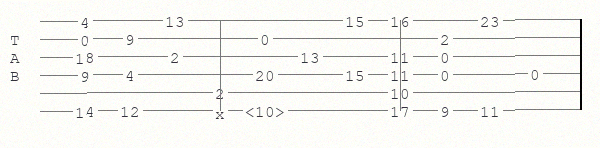0: (80, 31, 94, 45), (260, 31, 274, 45), (440, 67, 454, 81), (440, 49, 454, 63), (530, 67, 544, 81)
10: (390, 85, 414, 99)
11: (390, 67, 414, 81), (390, 49, 414, 63), (480, 103, 504, 117)
12: (120, 103, 144, 117)
13: (165, 13, 189, 27), (300, 49, 324, 63)
14: (75, 103, 99, 117)
15: (345, 13, 369, 27), (345, 67, 369, 81)
16: (390, 13, 414, 27)
17: (390, 103, 414, 117)
18: (75, 49, 99, 63)
2: (170, 49, 184, 63), (215, 85, 229, 99), (440, 31, 454, 45)
20: (255, 67, 279, 81)
23: (480, 13, 504, 27)
4: (80, 13, 94, 27), (125, 67, 139, 81)
9: (80, 67, 94, 81), (125, 31, 139, 45), (440, 103, 454, 117)
harmonic: (245, 103, 289, 118)
x: (215, 105, 229, 116)
